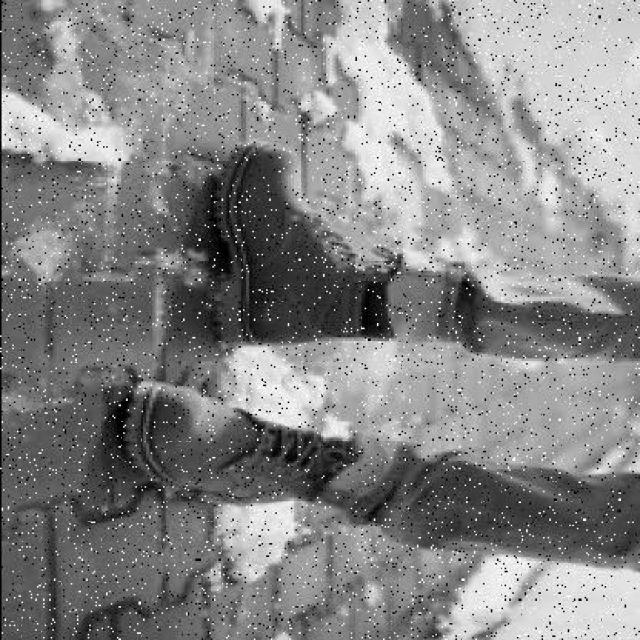shoes: (208, 151, 382, 349), (122, 386, 344, 514)
